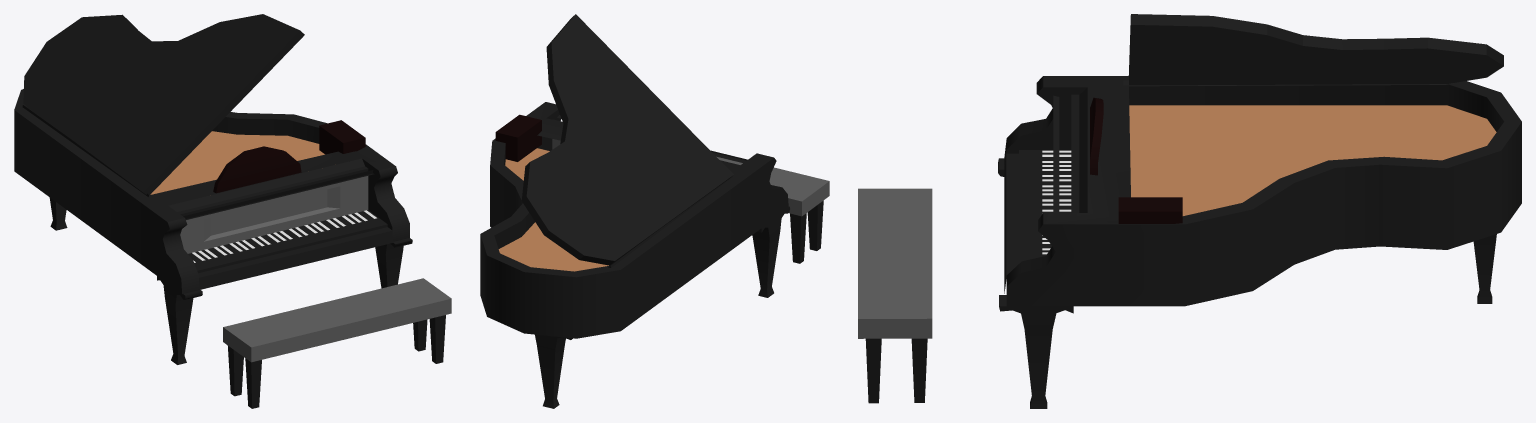
The model's file is Piano.FBX.
3 renders of one model, left to right at view 1: azimuth 30°, elevation 25°; view 2: azimuth 150°, elevation 25°; view 3: azimuth 270°, elevation 25°, orthographic. The views are drawn at different scales.
Parts seen in each view (by area): view 1: Piano; view 2: Piano; view 3: Piano.
Boxes of the visible parts, <box> form: Piano: <box>14,14,451,408</box>; Piano: <box>480,14,829,408</box>; Piano: <box>858,14,1521,408</box>.
Size of the model in its own units: 5.87 by 6.65 by 11.1.
